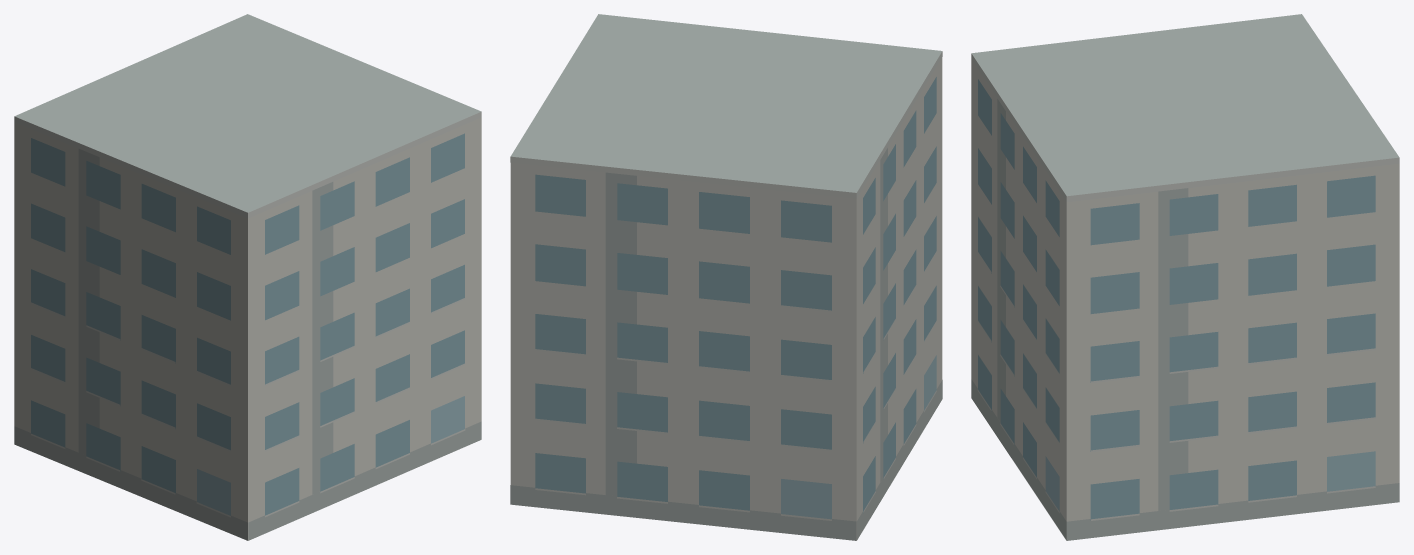
Rendered from survey-upis-32562091.glb.
The picture shows the model from 3 angles, left to right: view 1: azimuth 30°, elevation 25°; view 2: azimuth 150°, elevation 25°; view 3: azimuth 270°, elevation 25°; orthographic projection. The views are drawn at different scales.
Parts seen in each view (by area): view 1: survey-upis-32562091.tmp; view 2: survey-upis-32562091.tmp; view 3: survey-upis-32562091.tmp.
Part boxes in pixels (box(x1,y1,x2,y2)): survey-upis-32562091.tmp: box(14, 14, 481, 540); survey-upis-32562091.tmp: box(510, 14, 942, 540); survey-upis-32562091.tmp: box(971, 14, 1399, 540).
Bounding box in the file's own units: 16.11 × 14.2 × 16.
